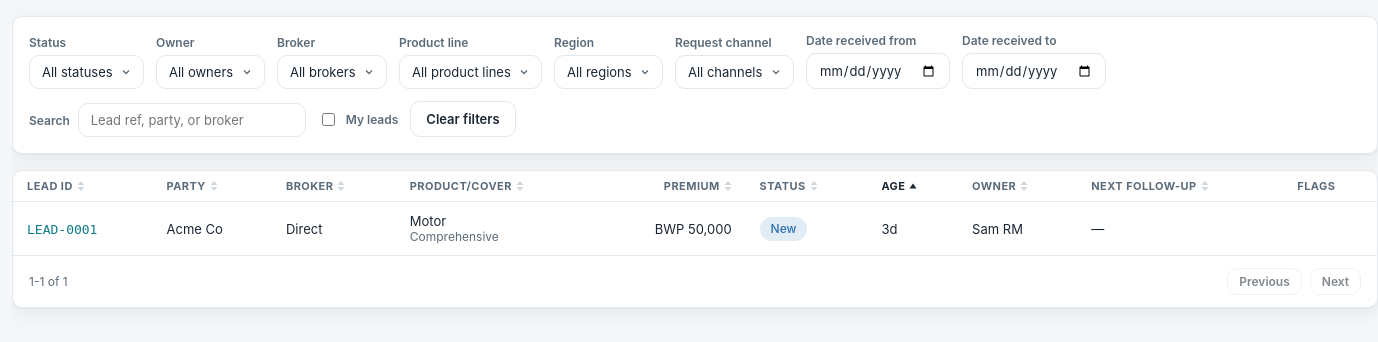
it: LeadsListPage › click_WhenLeadIdHeaderClickedTwice_ShouldToggleToDescending
Expected: the table with test id "leads-table" is shown, x1=13 y1=171 x2=1377 y2=255
Click the button with test id "sort-header-leadRef". click: x=56, y=186
box: x1=27 y1=179 x2=85 y2=193
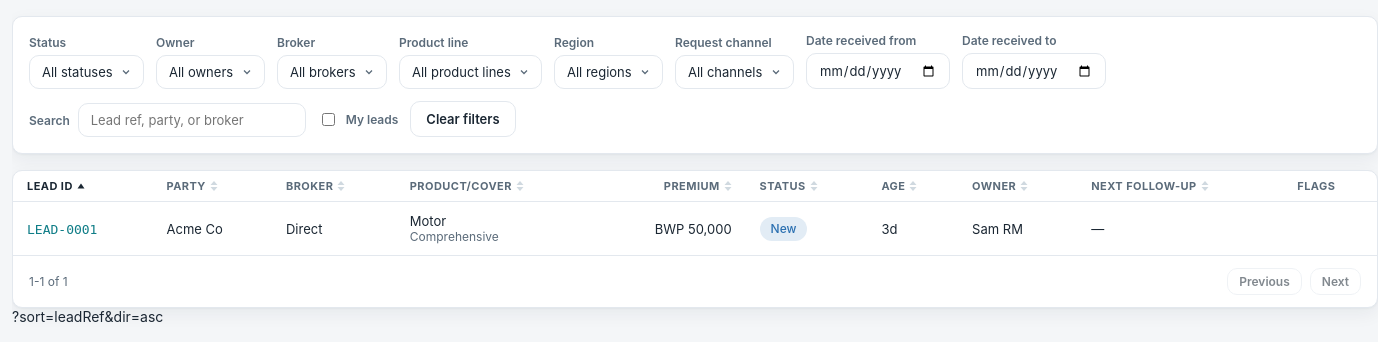
Click the button with test id "sort-header-leadRef". click: x=56, y=186
box: x1=27 y1=179 x2=85 y2=193
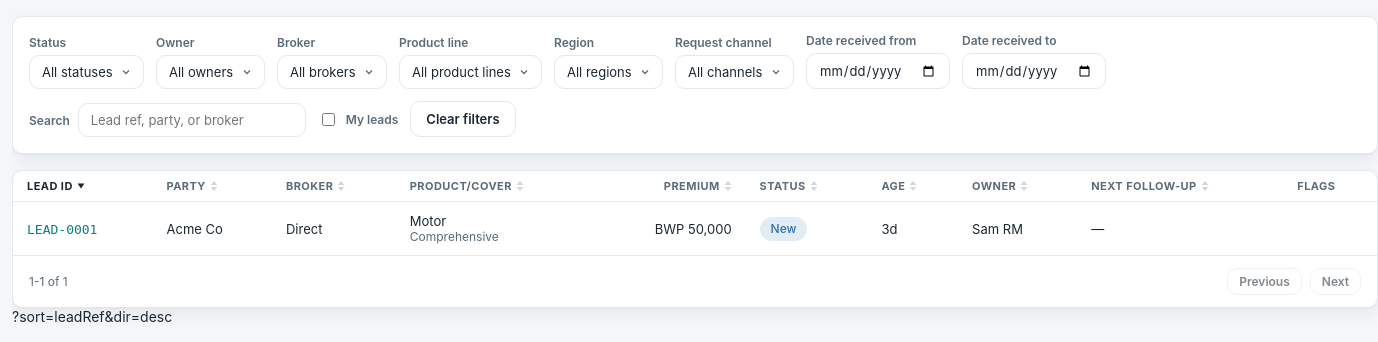
Expected: the text with test id "location-search" shows "dir=desc", x1=12 y1=308 x2=172 y2=325
